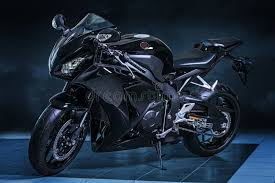motorcycle: (27, 13, 246, 176)
